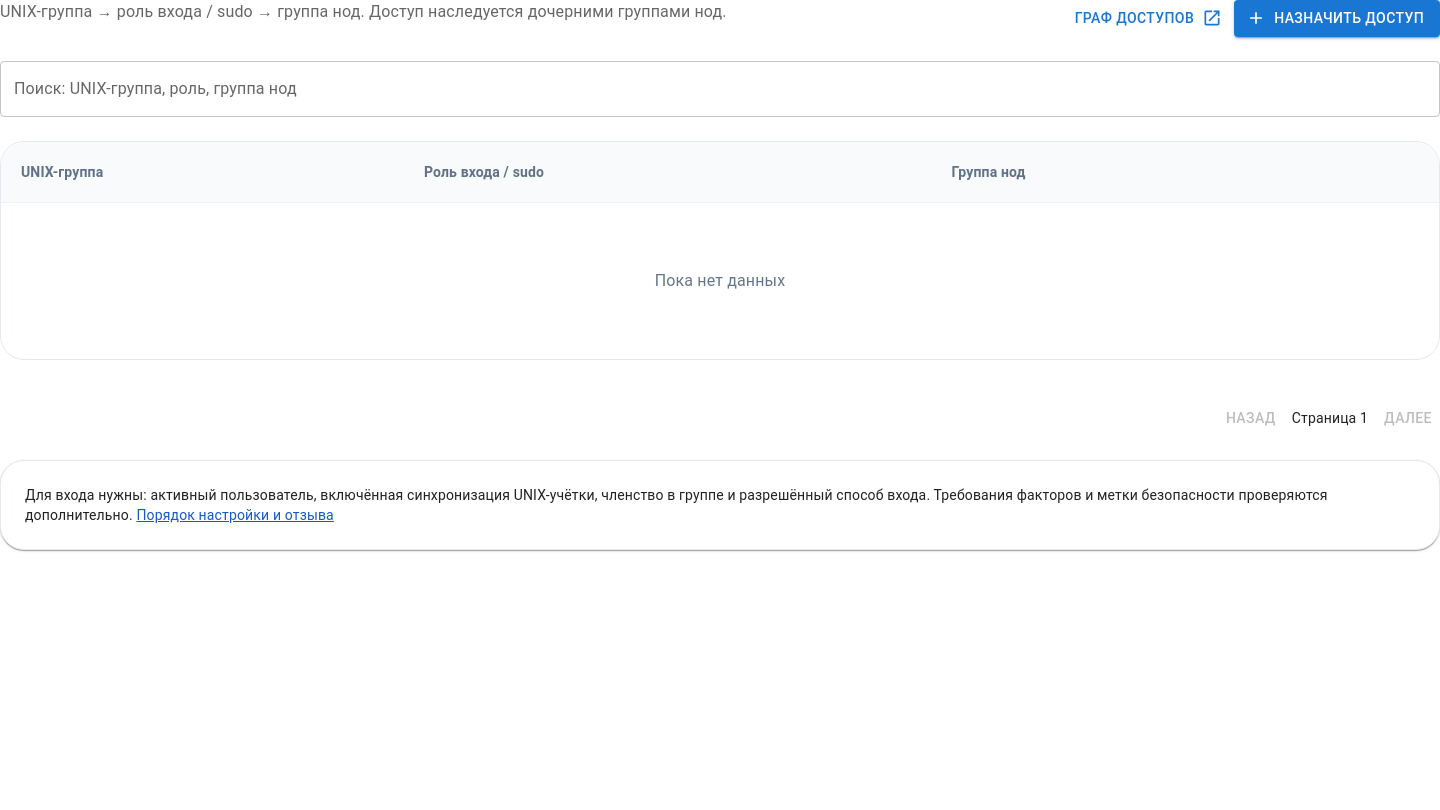
Test: assignment dialog requests native roles and cancellation leaves access unchanged
Click the button "Назначить доступ" at coordinates (1337, 18), box [1234, 0, 1439, 36]
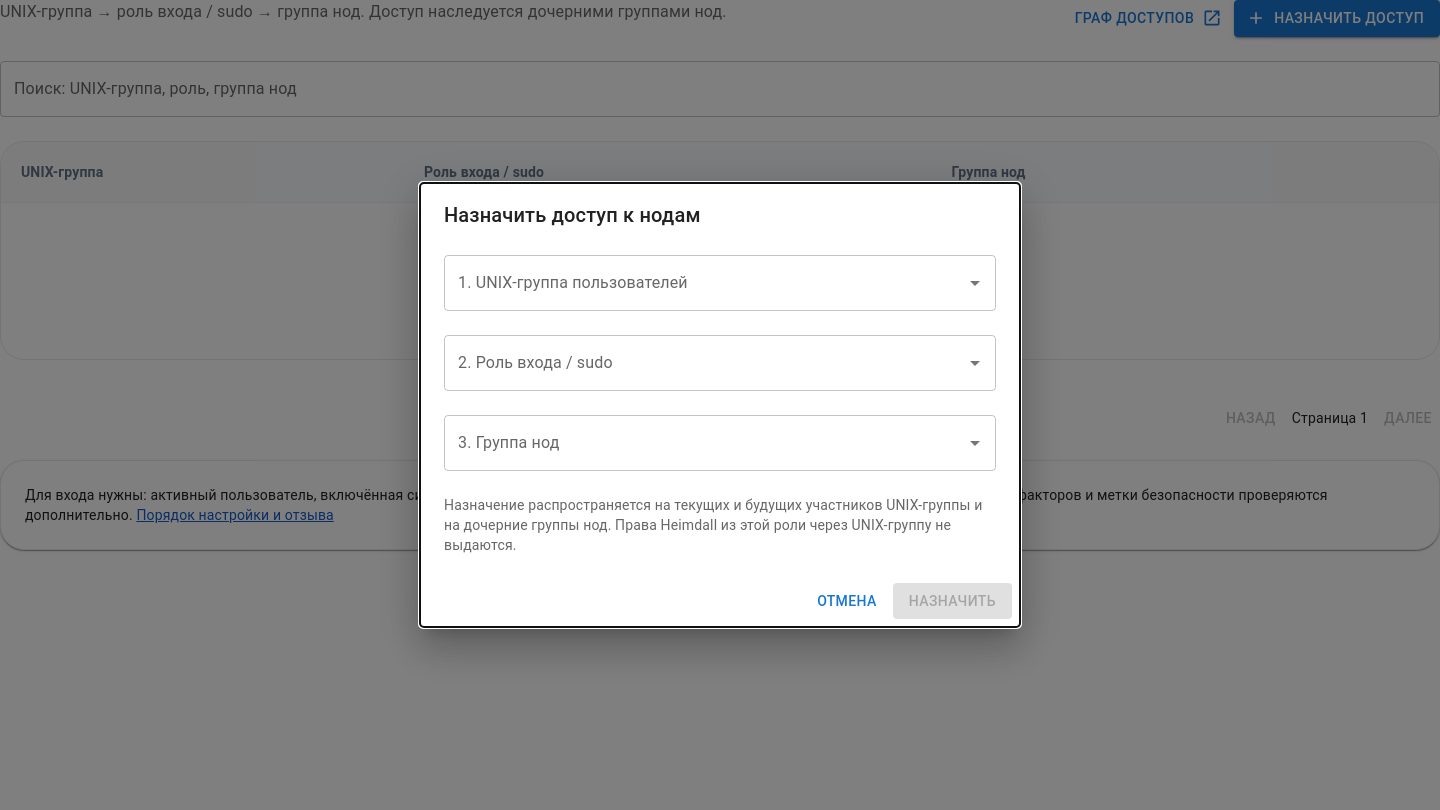
Check: the dropdown labelled "1. UNIX-группа пользователей" is shown, box [453, 264, 957, 302]
Click the dropdown labelled "2. Роль входа / sudo" at coordinates (705, 363), box [453, 344, 957, 382]
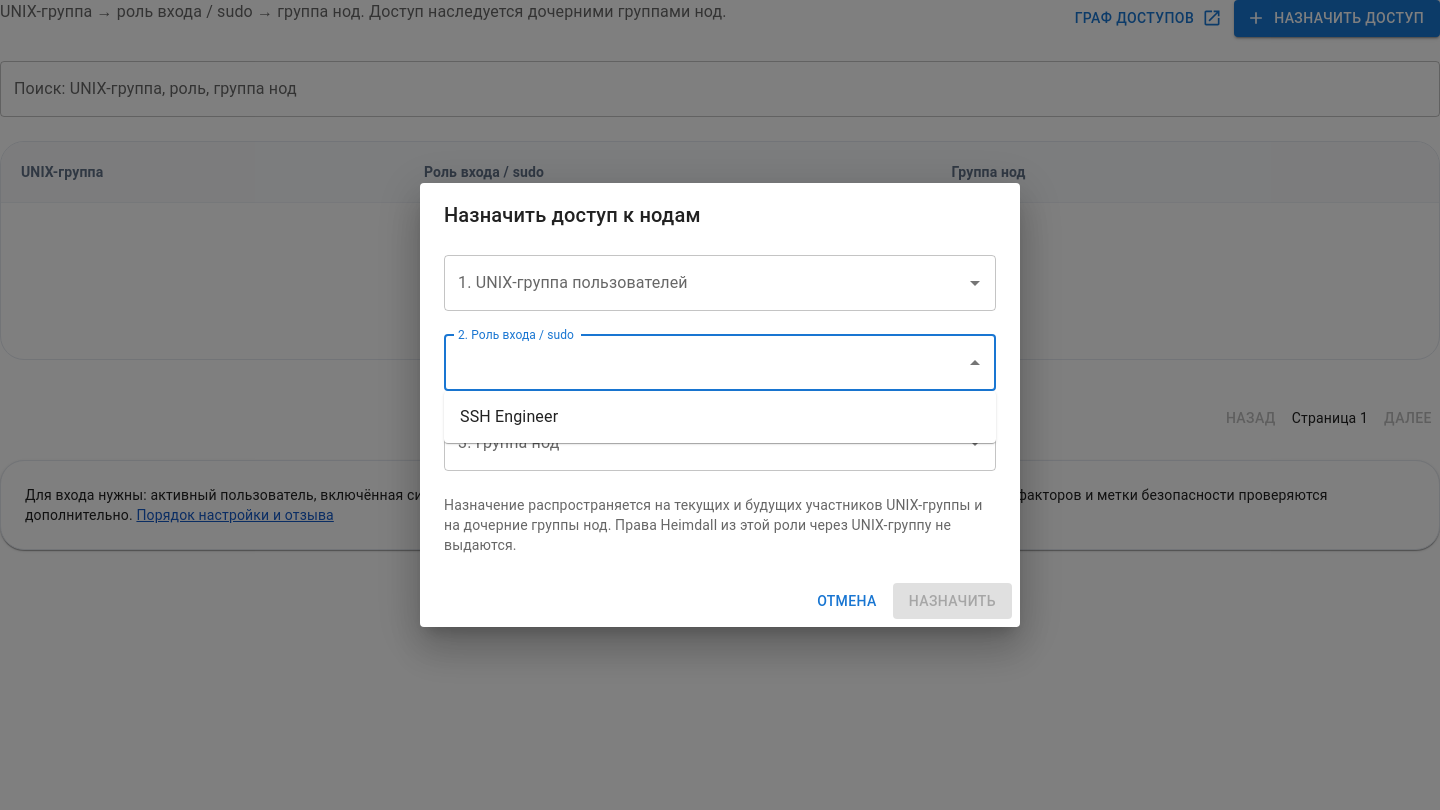
Click the option "SSH Engineer" at coordinates (509, 416), box [460, 407, 558, 426]
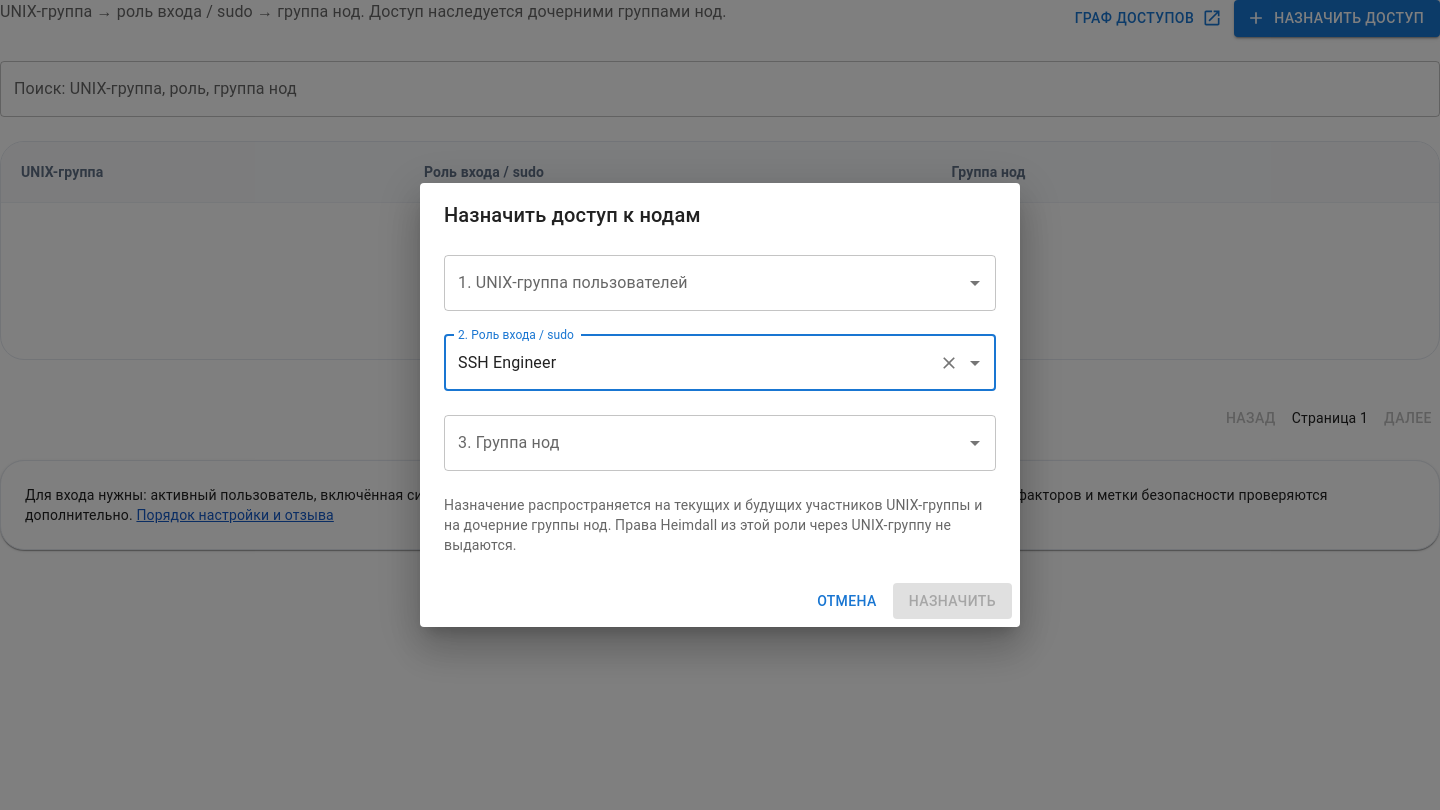
Check: the button "Назначить" is disabled, box [893, 583, 1012, 619]
Click the button "Отмена" at coordinates (847, 601), box [809, 583, 885, 619]
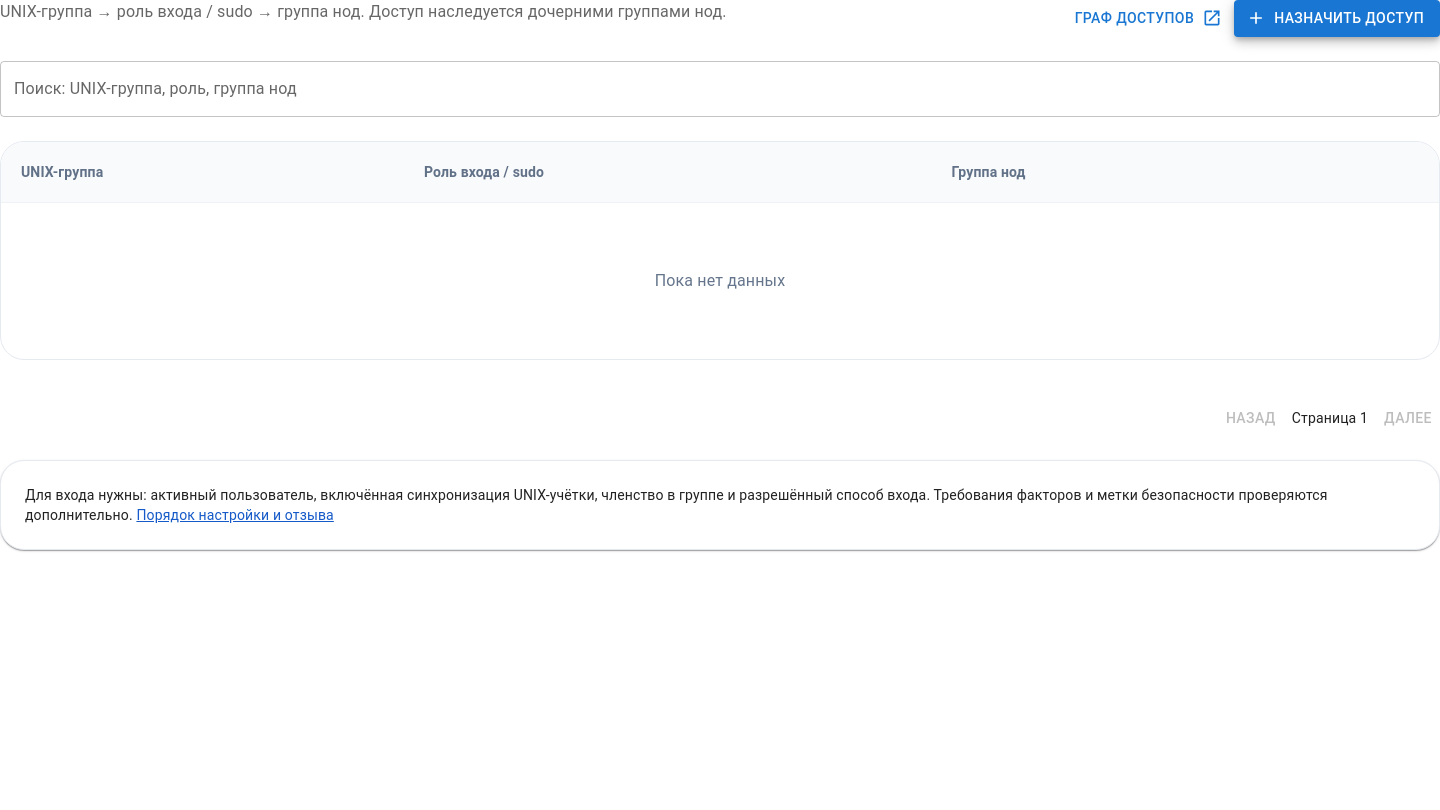
Check: the dialog is gone
